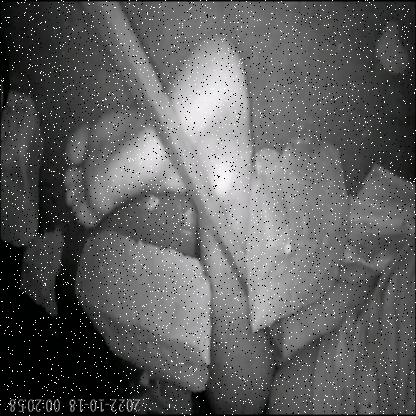leg: (50, 21, 253, 270)
